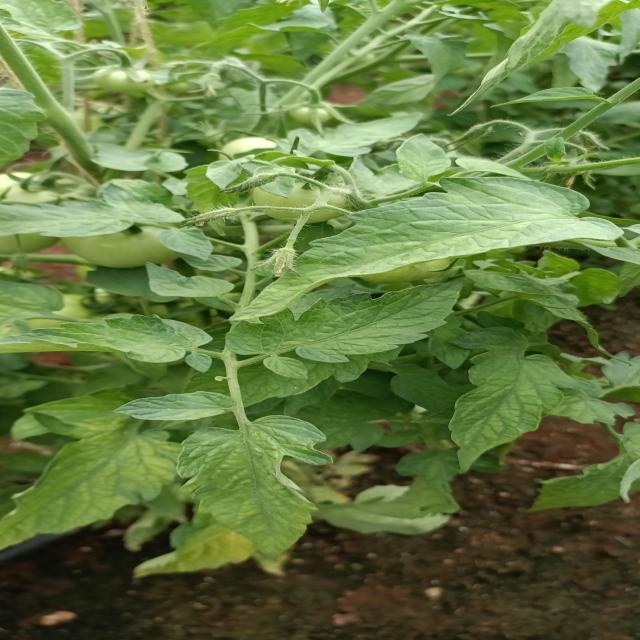Healthy Leaf: (221, 166, 624, 328), (156, 411, 365, 573), (301, 272, 461, 397), (446, 347, 563, 465), (94, 395, 247, 425), (153, 229, 218, 262)
